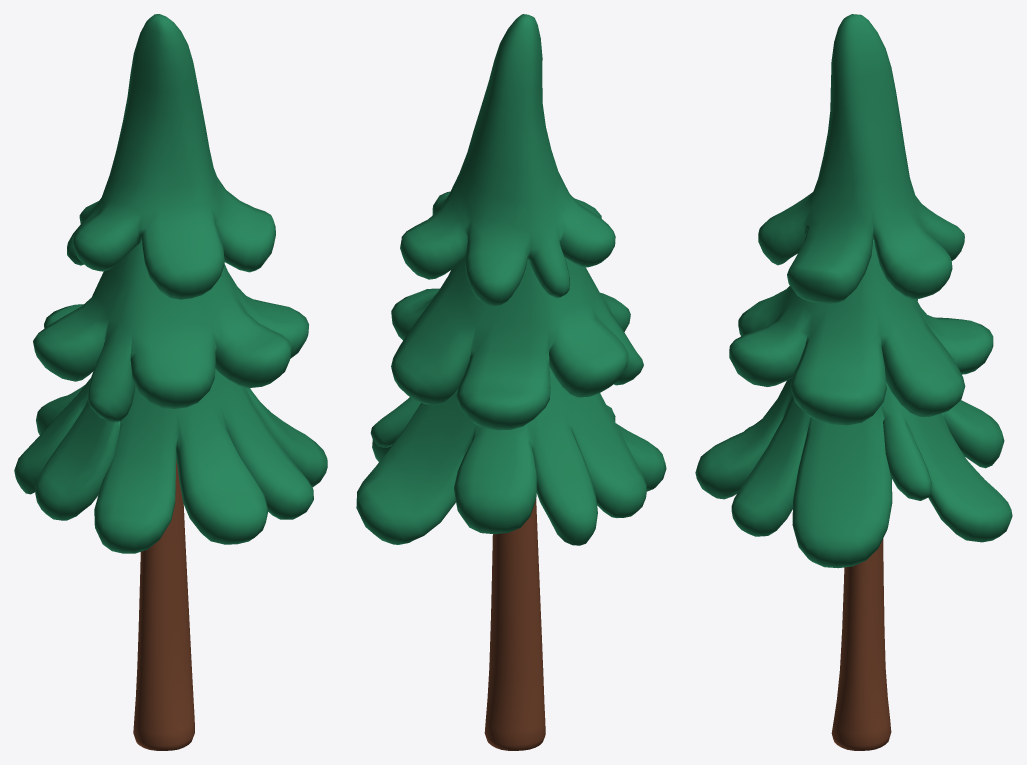
File: Pine_04.fbx
The picture shows the model from 3 angles, left to right: view 1: azimuth 30°, elevation 25°; view 2: azimuth 150°, elevation 25°; view 3: azimuth 270°, elevation 25°; orthographic projection.
Parts seen in each view (by area): view 1: Pine_04_LOD0; view 2: Pine_04_LOD0; view 3: Pine_04_LOD0.
Part boxes in pixels (left/top/right/bottom): Pine_04_LOD0: left=14, top=14, right=327, bottom=750; Pine_04_LOD0: left=356, top=14, right=666, bottom=750; Pine_04_LOD0: left=695, top=14, right=1012, bottom=750.
Size of what is drawn, in the model's own units: 655 by 1676 by 666.
